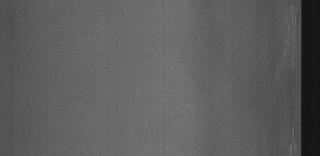silk spot: (272, 6, 298, 72), (283, 90, 299, 156)
